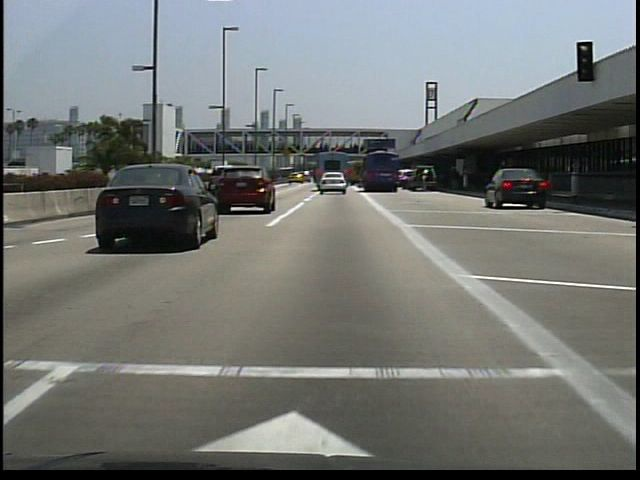person: (447, 165, 464, 197)
